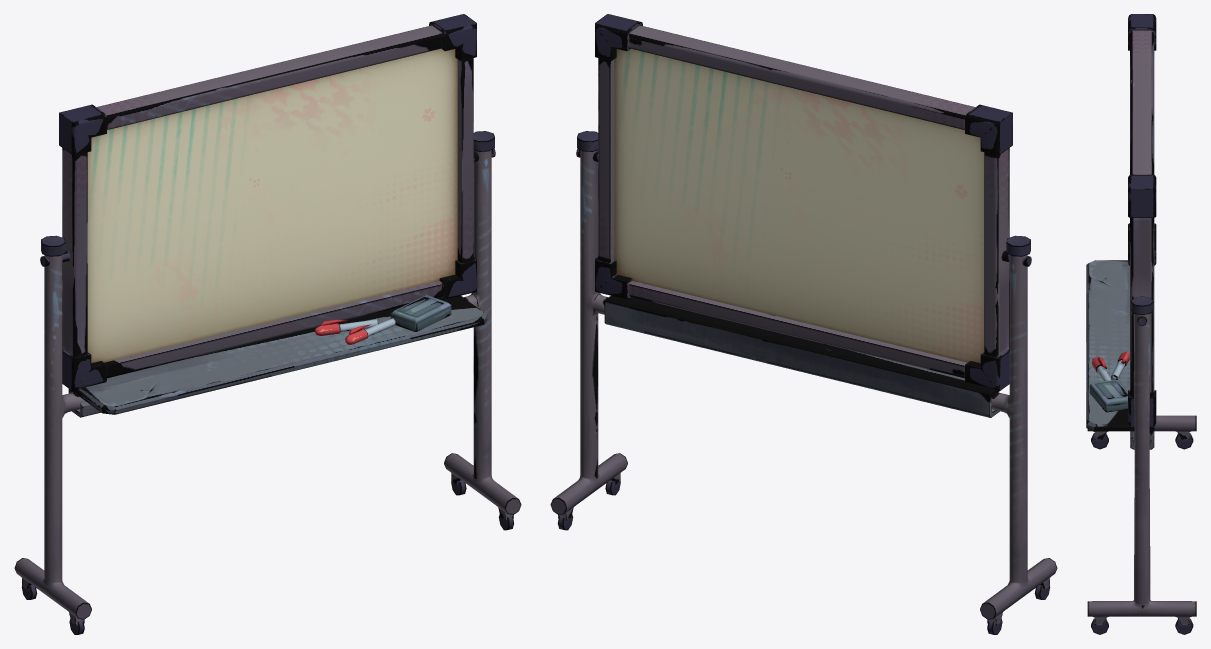
Rendered from SM_Whiteboard_v2.glb.
The picture shows the model from 3 angles, left to right: view 1: azimuth 30°, elevation 25°; view 2: azimuth 150°, elevation 25°; view 3: azimuth 270°, elevation 25°; orthographic projection. The views are drawn at different scales.
Parts seen in each view (by area): view 1: SM_Whiteboard; view 2: SM_Whiteboard; view 3: SM_Whiteboard.
Part boxes in pixels (box(x1,y1,x2,y2)): SM_Whiteboard: box(14, 14, 521, 634); SM_Whiteboard: box(550, 14, 1057, 634); SM_Whiteboard: box(1086, 14, 1196, 634).
Size of the model in its own units: 3.21 by 3.37 by 0.7663.
Materials: 2 (2 with a texture image).
